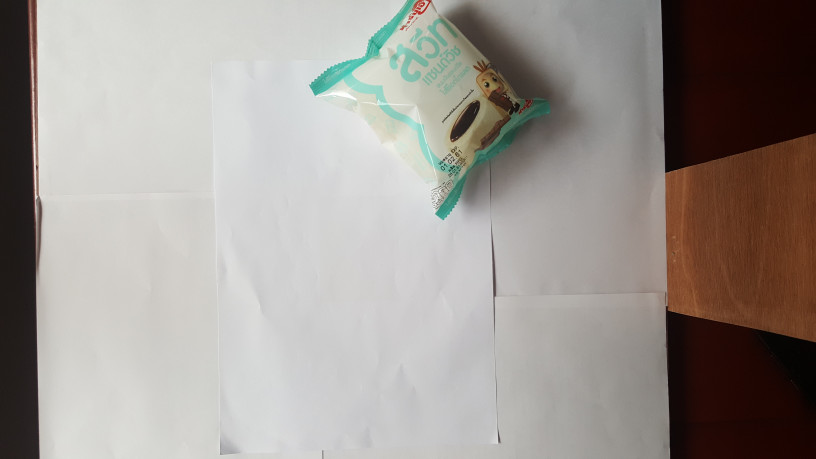farmhouse-sweetsandwich-chocolate: (305, 1, 556, 223)
